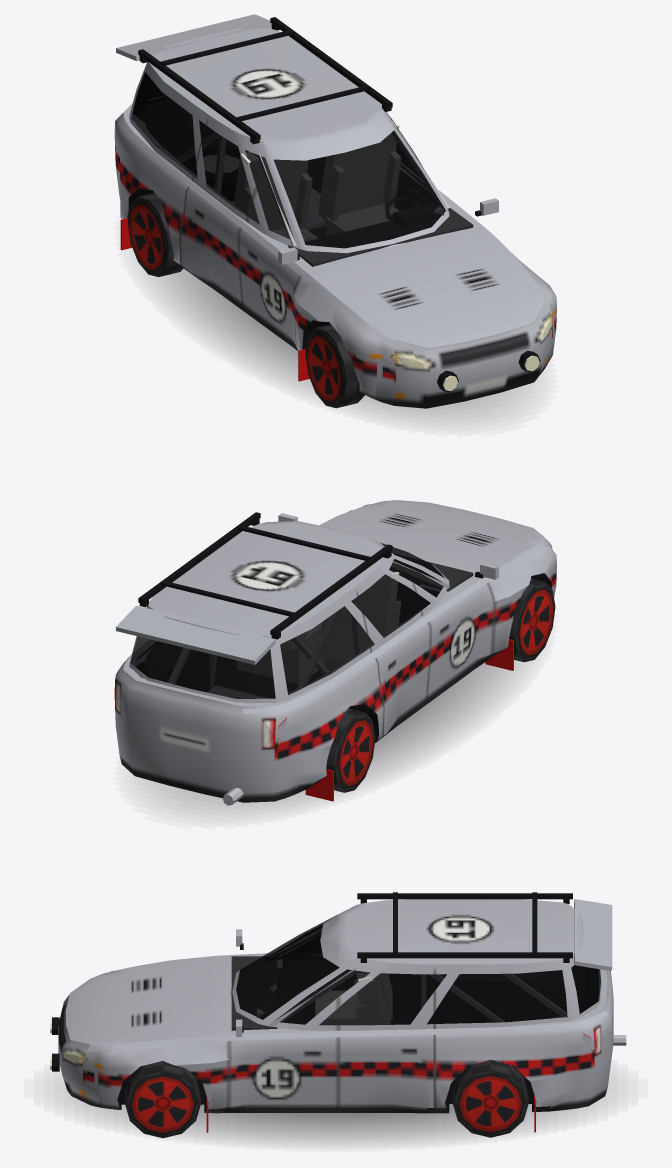
Rendered from estopim.glb.
The picture shows the model from 3 angles, top to bottom: view 1: azimuth 30°, elevation 25°; view 2: azimuth 150°, elevation 25°; view 3: azimuth 270°, elevation 25°; orthographic projection. The views are drawn at different scales.
Parts seen in each view (by area): view 1: Carroceria, Interior, Capo_malha, Porta_TD_malha, Sombra, Porta_D_malha, Roda_DD, Roda_TD, Tampa_malha; view 2: Carroceria, Tampa_malha, Interior, Capo_malha, Sombra, Porta_TD_malha, Porta_D_malha, Roda_TD, Roda_DD; view 3: Carroceria, Interior, Porta_TE_malha, Capo_malha, Porta_E_malha, Sombra, Tampa_malha, Roda_TE, Roda_DE, Porta_D_malha.
Part boxes in pixels (left/top/right/bottom): Carroceria: left=114, top=17, right=556, bottom=408; Interior: left=136, top=98, right=473, bottom=266; Capo_malha: left=319, top=235, right=549, bottom=347; Porta_TD_malha: left=180, top=115, right=270, bottom=302; Sombra: left=149, top=269, right=530, bottom=422; Porta_D_malha: left=239, top=165, right=301, bottom=345; Roda_DD: left=305, top=324, right=364, bottom=408; Roda_TD: left=127, top=192, right=183, bottom=276; Tampa_malha: left=115, top=14, right=271, bottom=114; Carroceria: left=114, top=502, right=556, bottom=805; Tampa_malha: left=115, top=605, right=275, bottom=783; Interior: left=136, top=554, right=473, bottom=698; Capo_malha: left=325, top=500, right=549, bottom=568; Sombra: left=142, top=660, right=522, bottom=814; Porta_TD_malha: left=355, top=556, right=430, bottom=735; Porta_D_malha: left=399, top=559, right=498, bottom=696; Roda_TD: left=326, top=708, right=375, bottom=792; Roda_DD: left=509, top=578, right=555, bottom=662; Carroceria: left=50, top=892, right=626, bottom=1132; Interior: left=231, top=928, right=598, bottom=1030; Porta_TE_malha: left=338, top=958, right=434, bottom=1108; Capo_malha: left=71, top=958, right=213, bottom=1052; Porta_E_malha: left=229, top=972, right=337, bottom=1107; Sombra: left=64, top=1083, right=607, bottom=1143; Tampa_malha: left=569, top=899, right=613, bottom=1082; Roda_TE: left=452, top=1059, right=528, bottom=1137; Roda_DE: left=125, top=1061, right=200, bottom=1138; Porta_D_malha: left=236, top=925, right=322, bottom=958.
Size of the model in its own units: 2.44 by 1.48 by 5.07.
14 materials, 5 textured.
